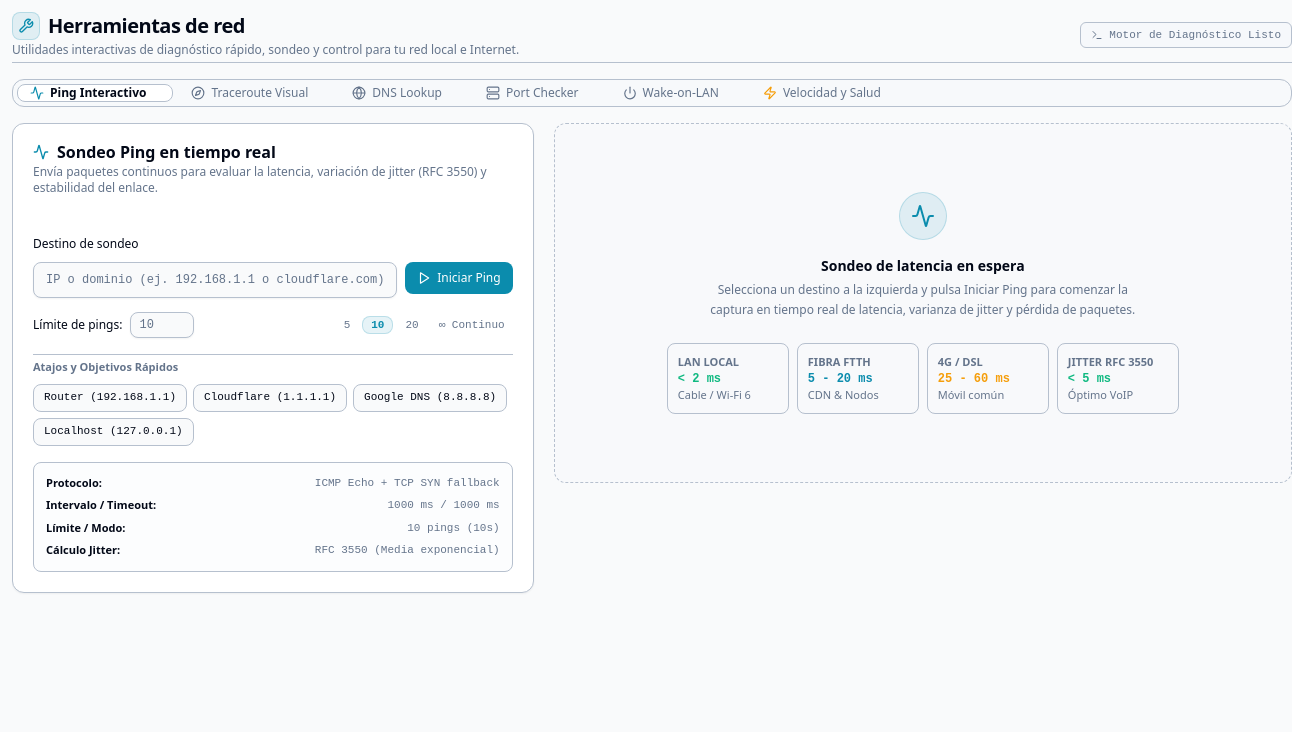
it: Tools Screen › cleans up packets and restores readiness HUD when clicking Limpiar
The width and height of the screenshot is (1292, 732).
Type "1.1.1.1" into the field with placeholder "IP o dominio (ej. 192.168.1.1 o cloudflare.com)" at (215, 280), box [33,262,397,298]
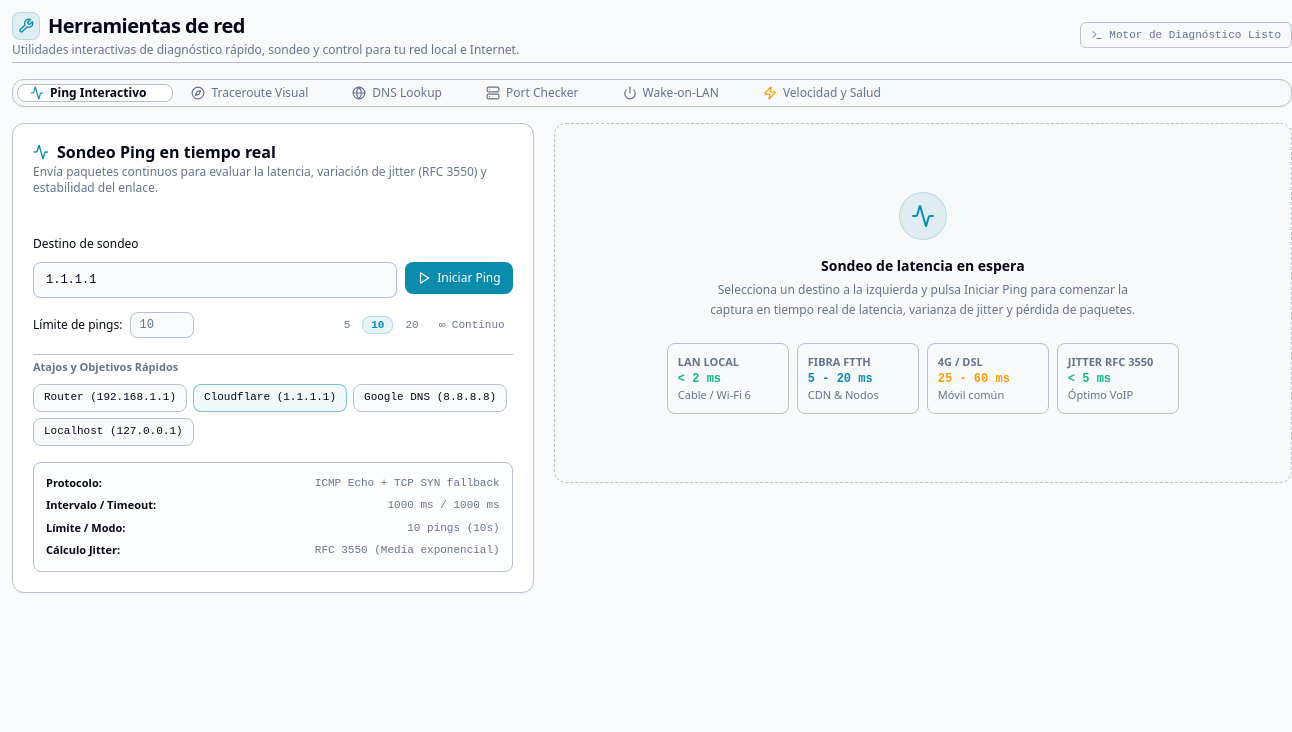
Click the button "Iniciar Ping" at (459, 278), box [405,262,513,294]
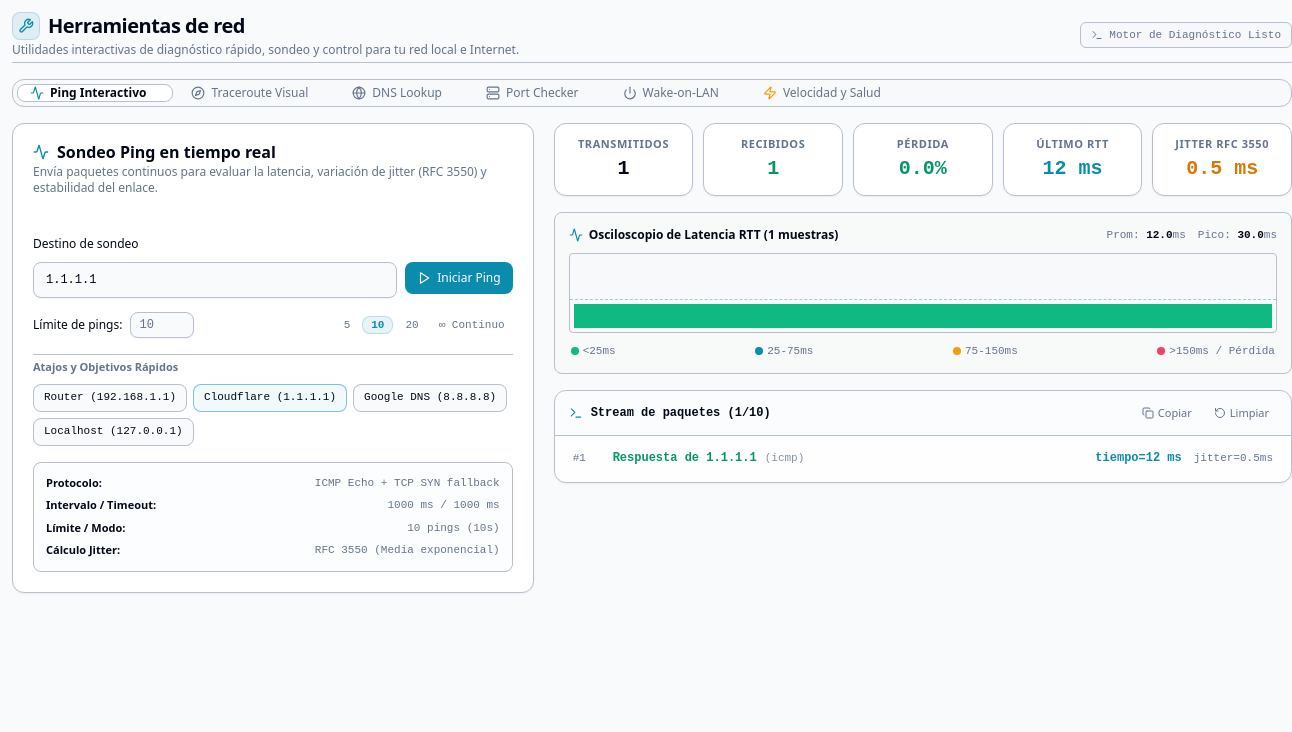
expect the button "Limpiar" is shown: met
expect the text "Stream de paquetes (1/10)" is shown: met, box [591,405,771,421]
# Click Limpiar
Click the button "Limpiar" at (1241, 413), box [1206,399,1277,427]
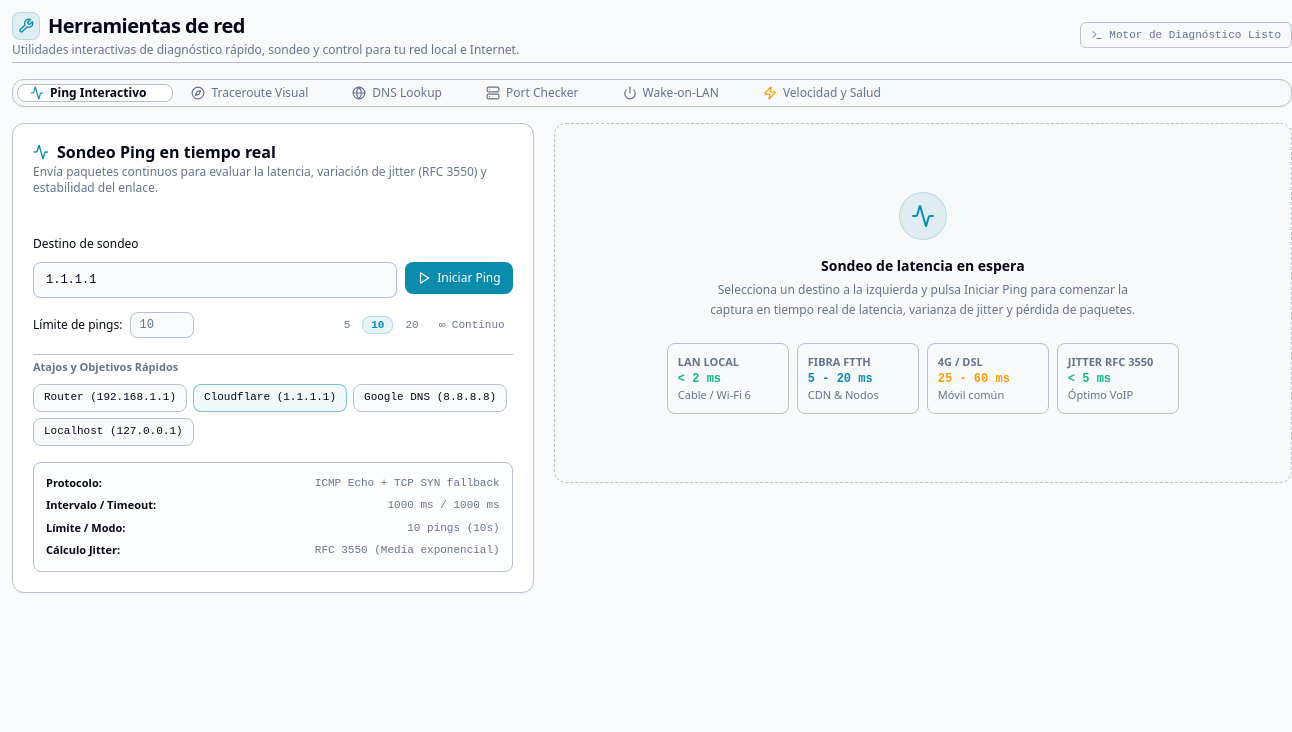
expect the heading "Sondeo de latencia en espera" is shown: met, box [821,256,1025,275]
expect the text "Stream de paquetes" is gone: met
expect the text "Transmitidos" is gone: met
